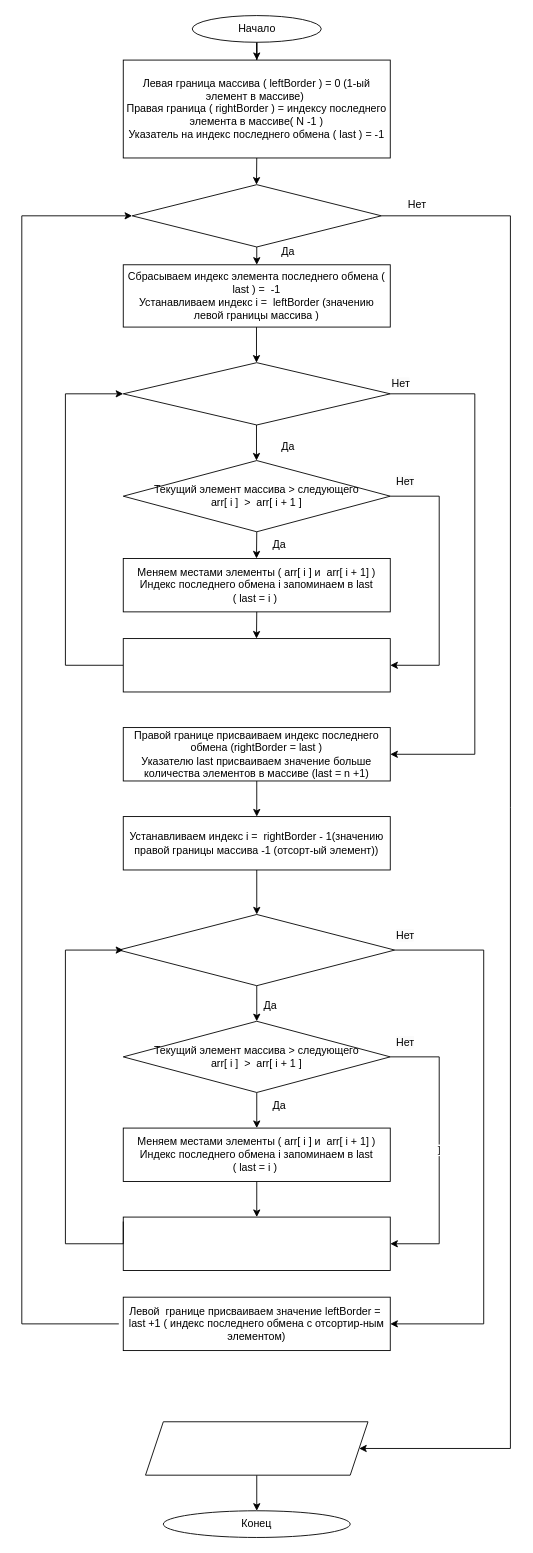
This 533x1553 diagram has some shape labels left out. The shapes that lost their labels are listed below. From the top down, each one's centre as x and y in pixels, then its label:
At point 256,215: "Левая граница массива < правой".
At point 256,393: "i < rightBorder (правой границы)".
At point 256,665: "Увеличиваем индекс i на 1 i = i + 1".
At point 256,950: "i >= leftBorder (левой границы)".
At point 256,1243: "Уменьшаем индекс i на 1 i = i - 1".
At point 256,1448: "Выводим отсортированный массив".
